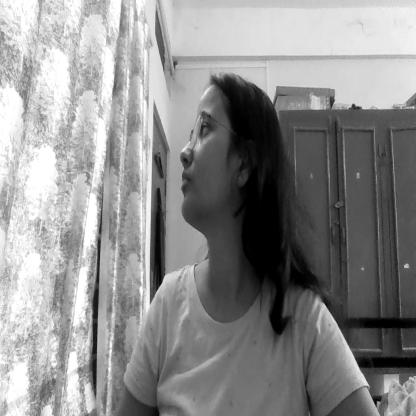Distracted: (173, 70, 279, 219)
